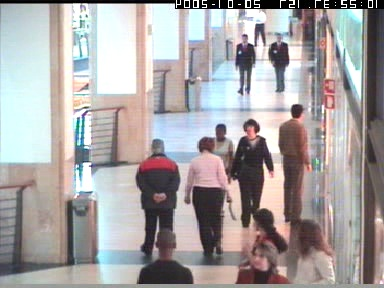person: (184, 139, 232, 257), (135, 138, 179, 260), (232, 119, 273, 227), (278, 104, 312, 226), (243, 207, 287, 282), (136, 228, 193, 284), (297, 219, 336, 285), (236, 240, 291, 284), (206, 122, 237, 199), (234, 32, 256, 94), (267, 34, 289, 92), (252, 9, 266, 47)
